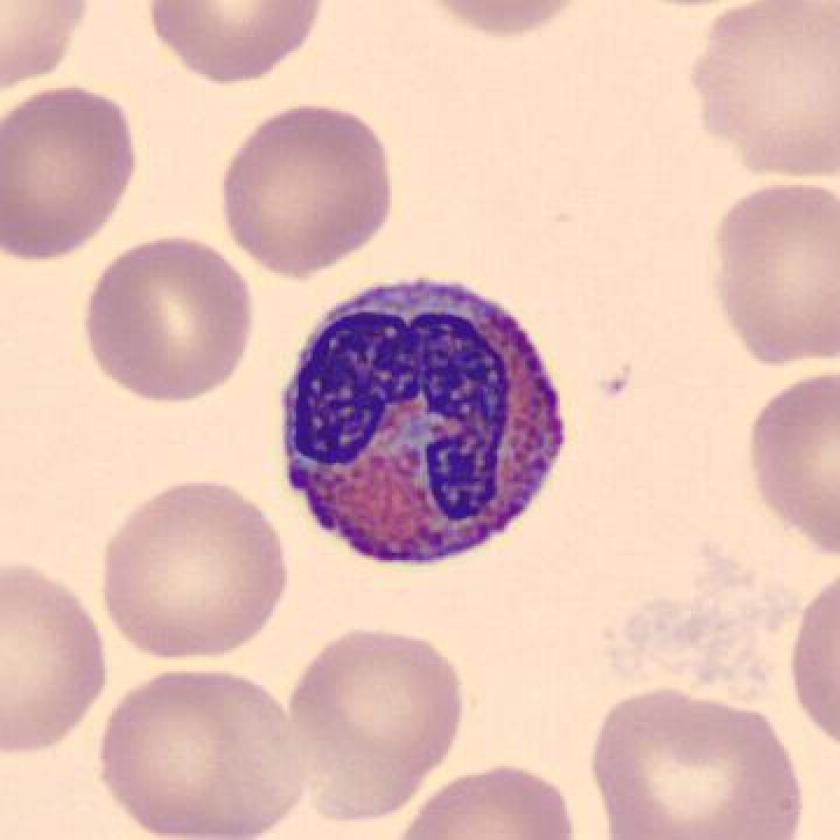eosinophil: (260, 267, 584, 582)
